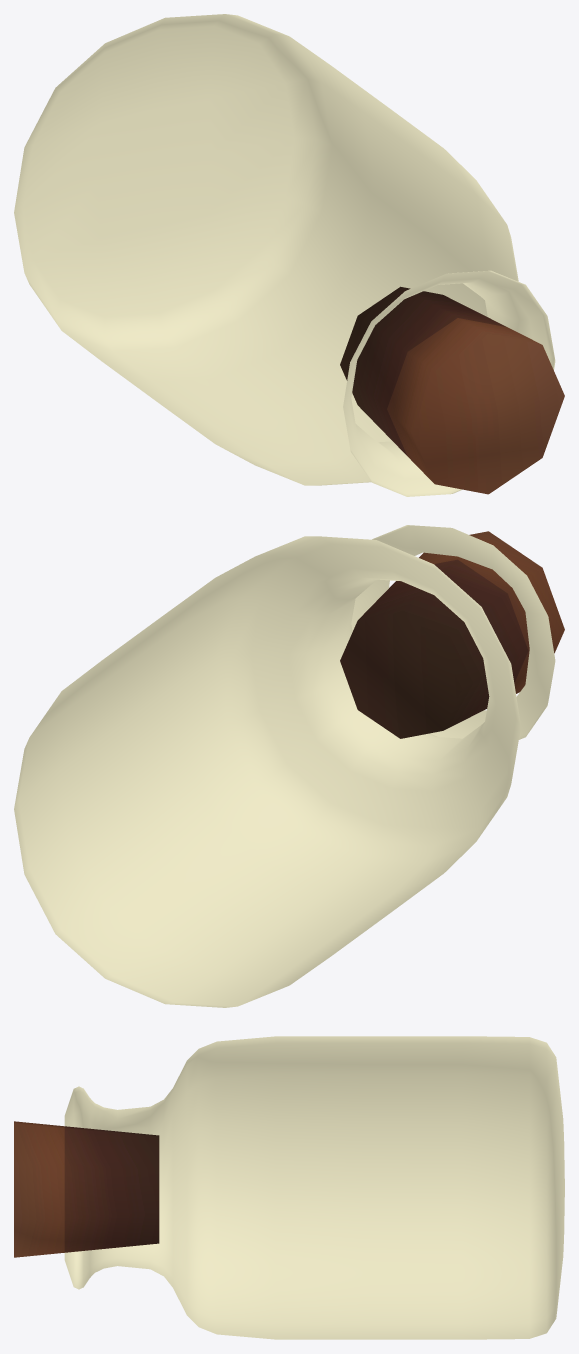
File: bottle.glb
3 renders of one model, top to bottom at view 1: azimuth 30°, elevation 25°; view 2: azimuth 150°, elevation 25°; view 3: azimuth 270°, elevation 25°, orthographic. The views are drawn at different scales.
Parts seen in each view (by area): view 1: shader-bottle, Cylinder; view 2: shader-bottle, Cylinder; view 3: shader-bottle, Cylinder.
Part boxes in pixels (x1,y1,x2,y2): shader-bottle: (14, 14, 555, 496); Cylinder: (340, 286, 564, 494); shader-bottle: (14, 525, 555, 1007); Cylinder: (340, 531, 564, 738); shader-bottle: (64, 1036, 564, 1339); Cylinder: (14, 1121, 159, 1257).
Bounding box in the file's own units: 1.85 × 1.85 × 3.41.
2 materials, 1 textured.
